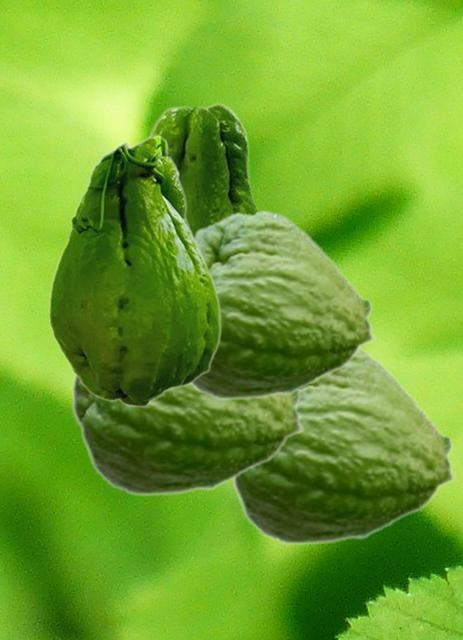sayote: (48, 134, 221, 407), (229, 347, 457, 545), (190, 209, 376, 400), (71, 373, 305, 496), (147, 102, 261, 232)
